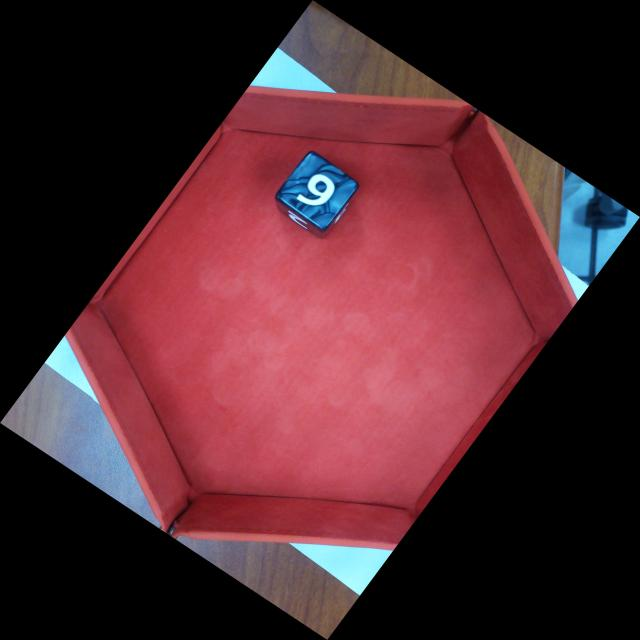dice: (284, 156, 356, 225)
